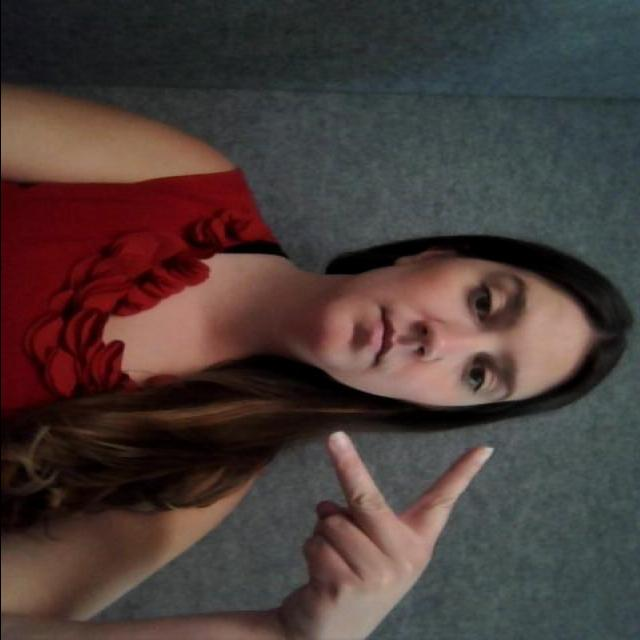Scissors: (247, 411, 490, 632)
